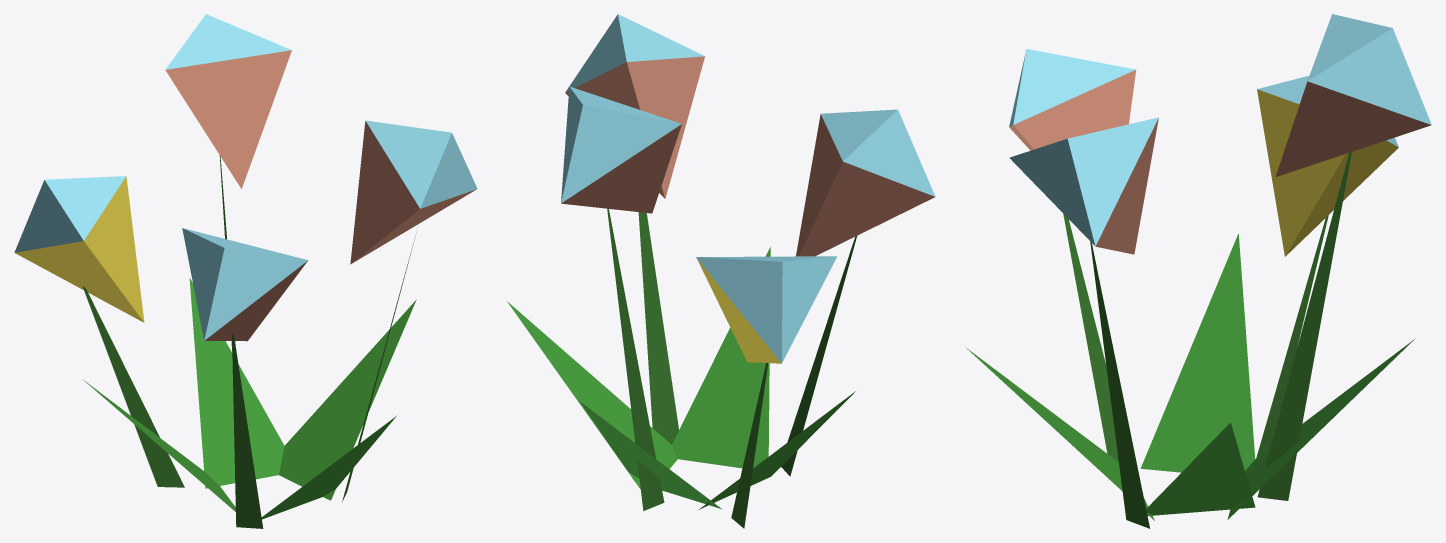
File: plant_tinctoria_a.obj
The picture shows the model from 3 angles, left to right: view 1: azimuth 30°, elevation 25°; view 2: azimuth 150°, elevation 25°; view 3: azimuth 270°, elevation 25°; orthographic projection. The views are drawn at different scales.
Parts seen in each view (by area): view 1: plant_tinctoria_a_8, plant_tinctoria_a_13, plant_tinctoria_a_12, plant_tinctoria_a_11, plant_tinctoria_a_1, plant_tinctoria_a_5, plant_tinctoria_a_4, plant_tinctoria_a_10, plant_tinctoria_a_7, plant_tinctoria_a_0, plant_tinctoria_a_9, plant_tinctoria_a_15 (+2 smaller); view 2: plant_tinctoria_a_15, plant_tinctoria_a_2, plant_tinctoria_a_10, plant_tinctoria_a_7, plant_tinctoria_a_5, plant_tinctoria_a_1, plant_tinctoria_a_8, plant_tinctoria_a_12, plant_tinctoria_a_3, plant_tinctoria_a_4, plant_tinctoria_a_6, plant_tinctoria_a_13 (+4 smaller); view 3: plant_tinctoria_a_14, plant_tinctoria_a_4, plant_tinctoria_a_11, plant_tinctoria_a_7, plant_tinctoria_a_8, plant_tinctoria_a_6, plant_tinctoria_a_12, plant_tinctoria_a_2, plant_tinctoria_a_1, plant_tinctoria_a_3, plant_tinctoria_a_5, plant_tinctoria_a_0 (+4 smaller).
Boxes of the visible parts, box(x1,y1,x2,y2) form: plant_tinctoria_a_8: box(165, 50, 291, 188); plant_tinctoria_a_13: box(189, 278, 284, 488); plant_tinctoria_a_12: box(279, 299, 416, 500); plant_tinctoria_a_11: box(14, 176, 144, 322); plant_tinctoria_a_1: box(182, 228, 307, 340); plant_tinctoria_a_5: box(350, 121, 476, 264); plant_tinctoria_a_4: box(366, 120, 477, 208); plant_tinctoria_a_10: box(14, 176, 125, 252); plant_tinctoria_a_7: box(165, 14, 291, 69); plant_tinctoria_a_0: box(232, 334, 263, 528); plant_tinctoria_a_9: box(82, 286, 184, 487); plant_tinctoria_a_15: box(261, 416, 396, 519); plant_tinctoria_a_15: box(672, 247, 770, 468); plant_tinctoria_a_2: box(796, 114, 934, 256); plant_tinctoria_a_10: box(696, 256, 837, 363); plant_tinctoria_a_7: box(561, 86, 681, 203); plant_tinctoria_a_5: box(565, 56, 704, 198); plant_tinctoria_a_1: box(821, 109, 935, 196); plant_tinctoria_a_8: box(561, 124, 681, 213); plant_tinctoria_a_12: box(507, 301, 677, 488); plant_tinctoria_a_3: box(638, 212, 678, 444); plant_tinctoria_a_4: box(565, 14, 704, 92); plant_tinctoria_a_6: box(607, 208, 664, 510); plant_tinctoria_a_13: box(580, 401, 721, 508); plant_tinctoria_a_14: box(1140, 233, 1255, 472); plant_tinctoria_a_4: box(1009, 117, 1158, 246); plant_tinctoria_a_11: box(1257, 89, 1398, 256); plant_tinctoria_a_7: box(1307, 14, 1431, 124); plant_tinctoria_a_8: box(1276, 81, 1431, 176); plant_tinctoria_a_6: box(1257, 151, 1351, 500); plant_tinctoria_a_12: box(1146, 422, 1255, 515); plant_tinctoria_a_2: box(1009, 70, 1136, 150); plant_tinctoria_a_1: box(1009, 49, 1135, 126); plant_tinctoria_a_3: box(1090, 242, 1149, 528); plant_tinctoria_a_5: box(1095, 118, 1158, 254); plant_tinctoria_a_0: box(1063, 214, 1118, 461).
Bounding box in the file's own units: 0.4938 × 0.5778 × 0.5107.
